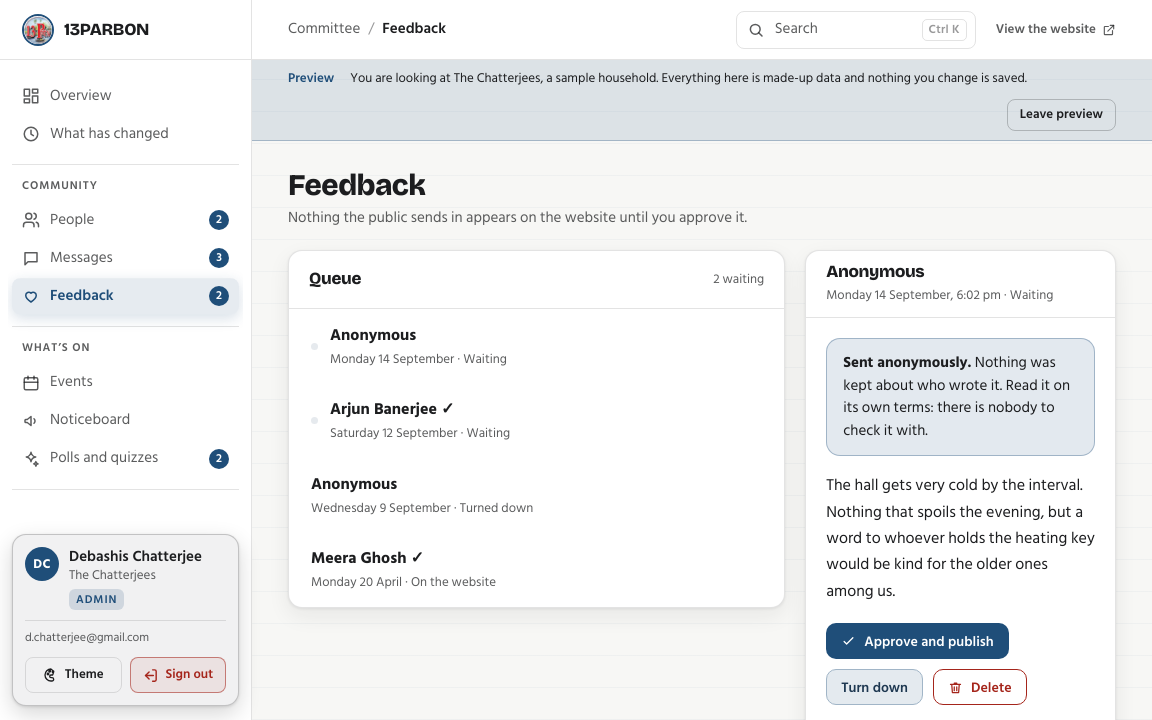
approving a piece › offers to take an approved one back off again
The image size is (1152, 720).
Expected: the heading "Feedback" is shown, [288,166,425,202]
Click the button "Meera Ghosh ✓ Monday 20 April · On the website".
click(359, 558)  # box [289,532,784,607]
(page scrolled)
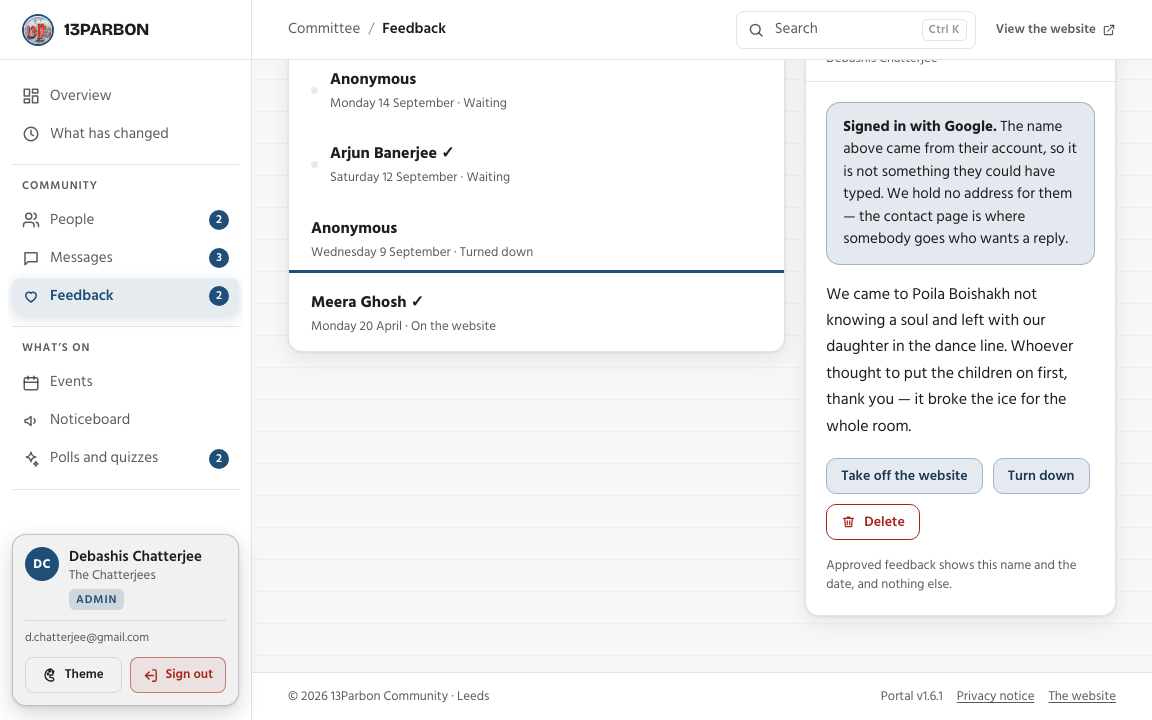
Expected: the button "Take off the website" is shown, [826,458,983,494]
